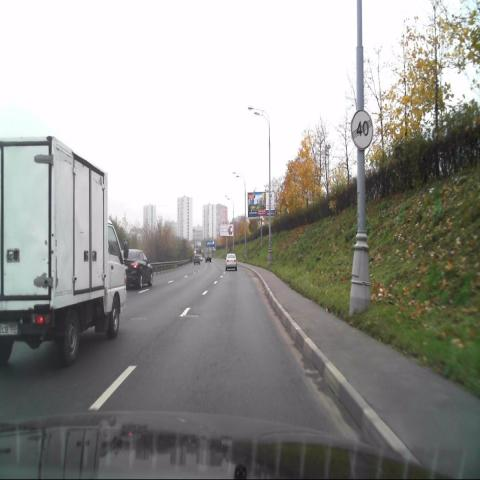3_25: (350, 110, 374, 150)
